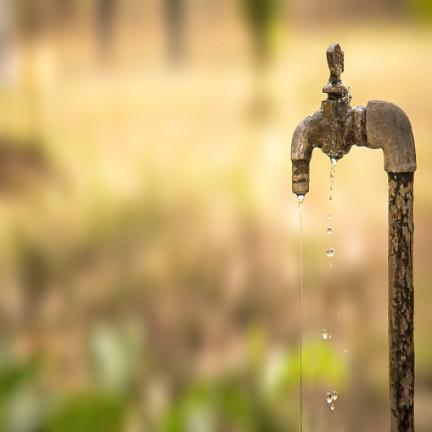karat: (292, 44, 416, 431)
